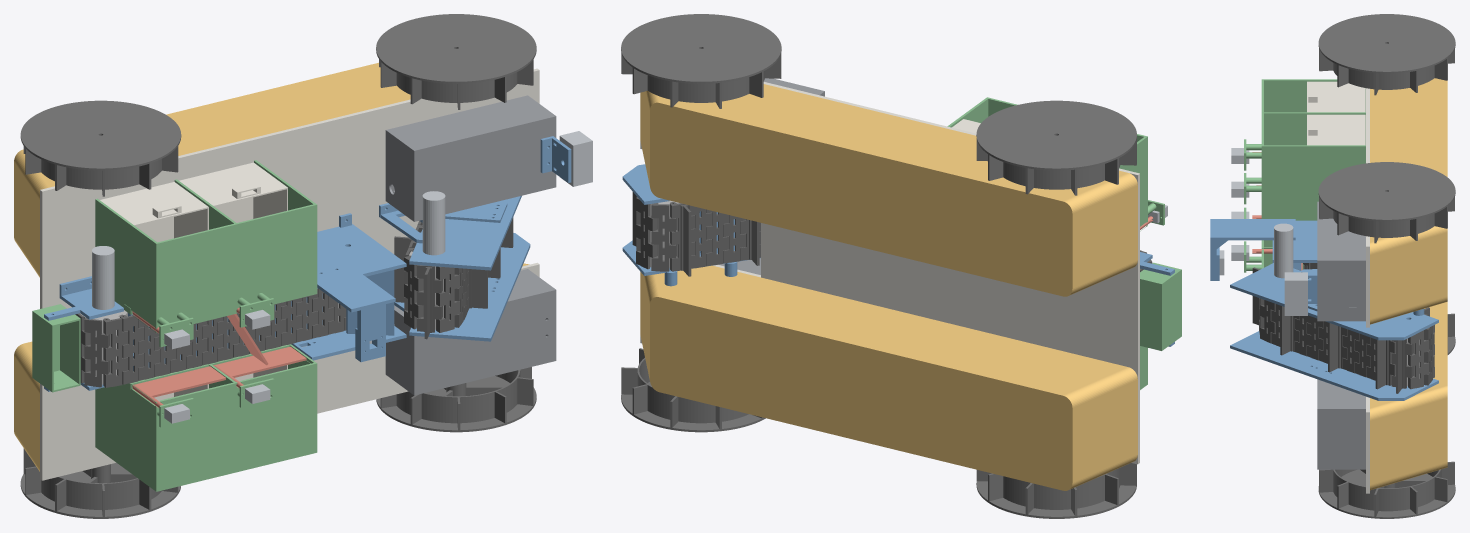
The model's file is assembly.glb.
3 renders of one model, left to right at view 1: azimuth 30°, elevation 25°; view 2: azimuth 150°, elevation 25°; view 3: azimuth 270°, elevation 25°, orthographic. The views are drawn at different scales.
Visible parts, largest first — view 1: deck (5 mm PVC foam), sorter_cover_port, sorter_cover_stbd, wheel_-225_port, wheel_+225_port, c2_belt, lid_port, lid_stbd, pontoon_mid_port, wheel_+225_stbd, c1_belt, wheel_-225_stbd (+23 smaller); view 2: pontoon_stern_stbd, deck (5 mm PVC foam), pontoon_mid_port, pontoon_mid_stbd, pontoon_stern_port, pontoon_bow_stbd, pontoon_bow_port, wheel_+225_port, wheel_-225_port, c1_belt, wheel_-225_stbd, wheel_+225_stbd (+3 smaller); view 3: wheel_-225_port, wheel_+225_port, sorter_frame_port, c1_belt, pontoon_bow_stbd, pontoon_bow_port, wheel_+225_stbd, pontoon_mid_port, electronics_box, battery_box, c1_lower, c1_upper (+13 smaller).
Boxes of the visible parts, x1=… form: deck (5 mm PVC foam): x1=40, y1=68, x2=539, y2=480; sorter_cover_port: x1=155, y1=204, x2=317, y2=332; sorter_cover_stbd: x1=155, y1=362, x2=317, y2=491; wheel_-225_port: x1=20, y1=100, x2=181, y2=196; wheel_+225_port: x1=376, y1=14, x2=536, y2=109; c2_belt: x1=75, y1=288, x2=346, y2=387; lid_port: x1=413, y1=115, x2=556, y2=221; lid_stbd: x1=413, y1=289, x2=556, y2=395; pontoon_mid_port: x1=166, y1=75, x2=370, y2=149; wheel_+225_stbd: x1=376, y1=367, x2=536, y2=432; c1_belt: x1=394, y1=217, x2=513, y2=339; wheel_-225_stbd: x1=20, y1=448, x2=180, y2=518; pontoon_stern_stbd: x1=926, y1=329, x2=1137, y2=490; deck (5 mm PVC foam): x1=640, y1=82, x2=1139, y2=464; pontoon_mid_port: x1=760, y1=94, x2=971, y2=262; pontoon_mid_stbd: x1=760, y1=288, x2=971, y2=457; pontoon_stern_port: x1=926, y1=135, x2=1137, y2=296; pontoon_bow_stbd: x1=640, y1=265, x2=805, y2=416; pontoon_bow_port: x1=640, y1=84, x2=805, y2=222; wheel_+225_port: x1=621, y1=14, x2=781, y2=108; wheel_-225_port: x1=976, y1=100, x2=1136, y2=195; c1_belt: x1=632, y1=192, x2=760, y2=276; wheel_-225_stbd: x1=976, y1=463, x2=1136, y2=518; wheel_+225_stbd: x1=621, y1=348, x2=765, y2=432; wheel_-225_port: x1=1318, y1=14, x2=1455, y2=95; wheel_+225_port: x1=1318, y1=162, x2=1455, y2=243; sorter_frame_port: x1=1264, y1=79, x2=1365, y2=220; c1_belt: x1=1252, y1=267, x2=1434, y2=393; pontoon_bow_stbd: x1=1370, y1=343, x2=1447, y2=490; pontoon_bow_port: x1=1370, y1=226, x2=1447, y2=324; wheel_+225_stbd: x1=1318, y1=461, x2=1455, y2=518; pontoon_mid_port: x1=1370, y1=108, x2=1447, y2=176; electronics_box: x1=1319, y1=218, x2=1365, y2=321; battery_box: x1=1319, y1=380, x2=1365, y2=469; c1_lower: x1=1311, y1=309, x2=1438, y2=400; c1_upper: x1=1230, y1=263, x2=1327, y2=376.
Size of the model in its own units: 657 by 424 by 315.
